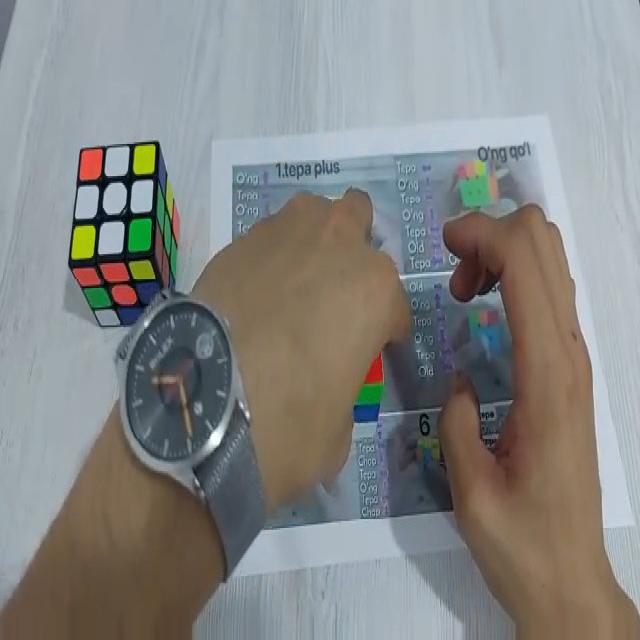Rub: (72, 144, 180, 328)
